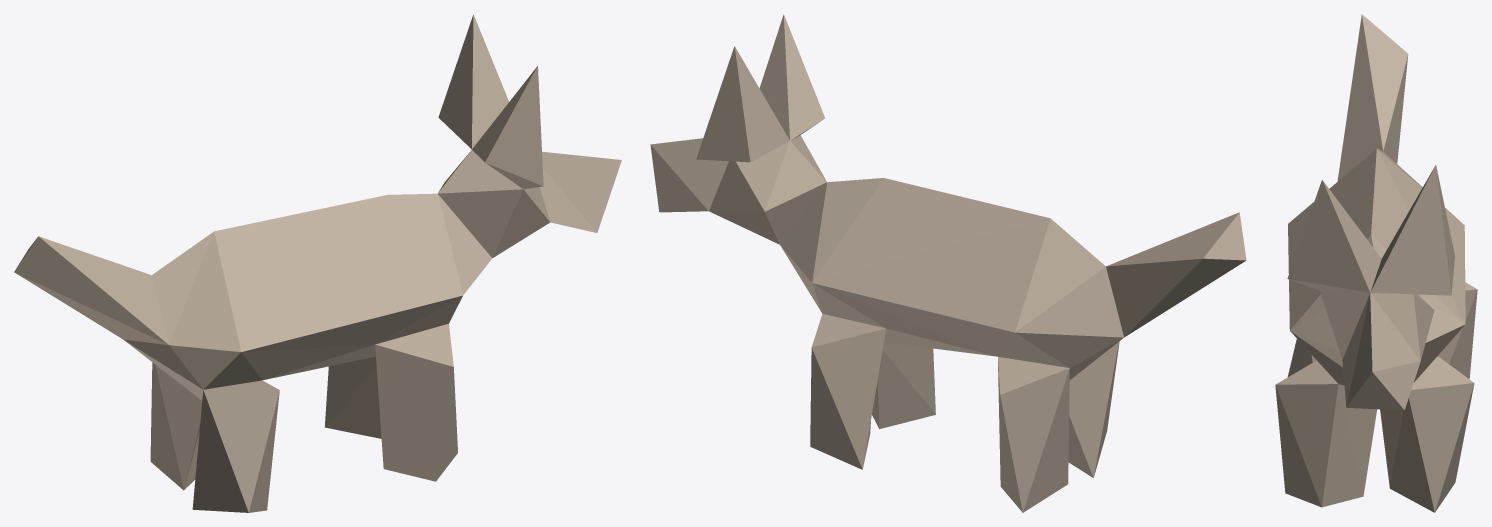
3 renders of one model, left to right at view 1: azimuth 30°, elevation 25°; view 2: azimuth 150°, elevation 25°; view 3: azimuth 270°, elevation 25°, orthographic.
Parts seen in each view (by area): view 1: part0; view 2: part0; view 3: part0.
Part boxes in pixels (bbox=[...]): part0: bbox=[14, 14, 621, 512]; part0: bbox=[650, 14, 1246, 512]; part0: bbox=[1275, 14, 1477, 512].
Size of the model in its own units: 3.76 by 2.31 by 1.09.
